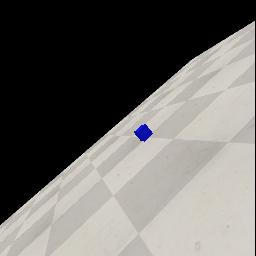box: (134, 124, 153, 142)
